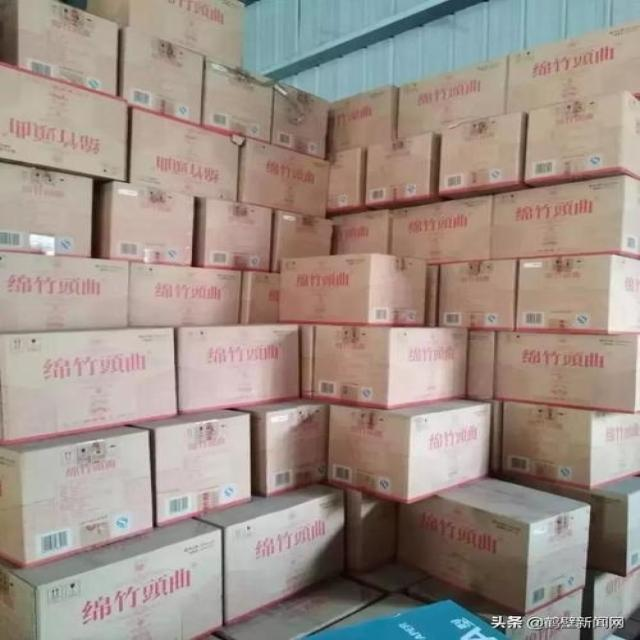box: (393, 473, 591, 612), (1, 519, 225, 640), (1, 425, 157, 567), (192, 482, 343, 626), (1, 328, 183, 447), (325, 398, 494, 502), (0, 61, 131, 185), (465, 331, 640, 416), (128, 409, 253, 527), (497, 473, 640, 576), (466, 331, 639, 414), (311, 323, 472, 409), (490, 173, 640, 260), (492, 403, 639, 489), (508, 19, 637, 114), (279, 252, 442, 325), (397, 577, 585, 640), (0, 1, 119, 97), (177, 325, 301, 415), (527, 90, 640, 188), (211, 576, 383, 640), (0, 250, 132, 333), (129, 105, 243, 201), (227, 397, 333, 497), (516, 254, 639, 331), (399, 55, 509, 141), (115, 21, 204, 126), (0, 163, 96, 258), (93, 184, 197, 265), (440, 112, 530, 201), (129, 263, 243, 329), (238, 135, 328, 218), (389, 194, 495, 263), (197, 55, 275, 143), (365, 133, 443, 213), (195, 197, 275, 270), (435, 257, 517, 326), (326, 82, 399, 152), (269, 80, 329, 160), (343, 489, 394, 576), (584, 565, 640, 639), (276, 208, 335, 269), (328, 208, 392, 252), (344, 560, 429, 592), (328, 148, 367, 217), (239, 272, 282, 328), (300, 322, 315, 401)
